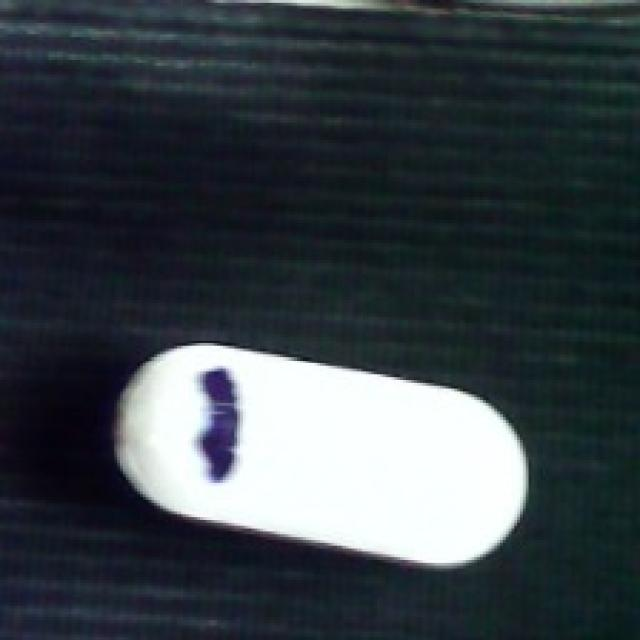defected: (103, 346, 534, 571)
